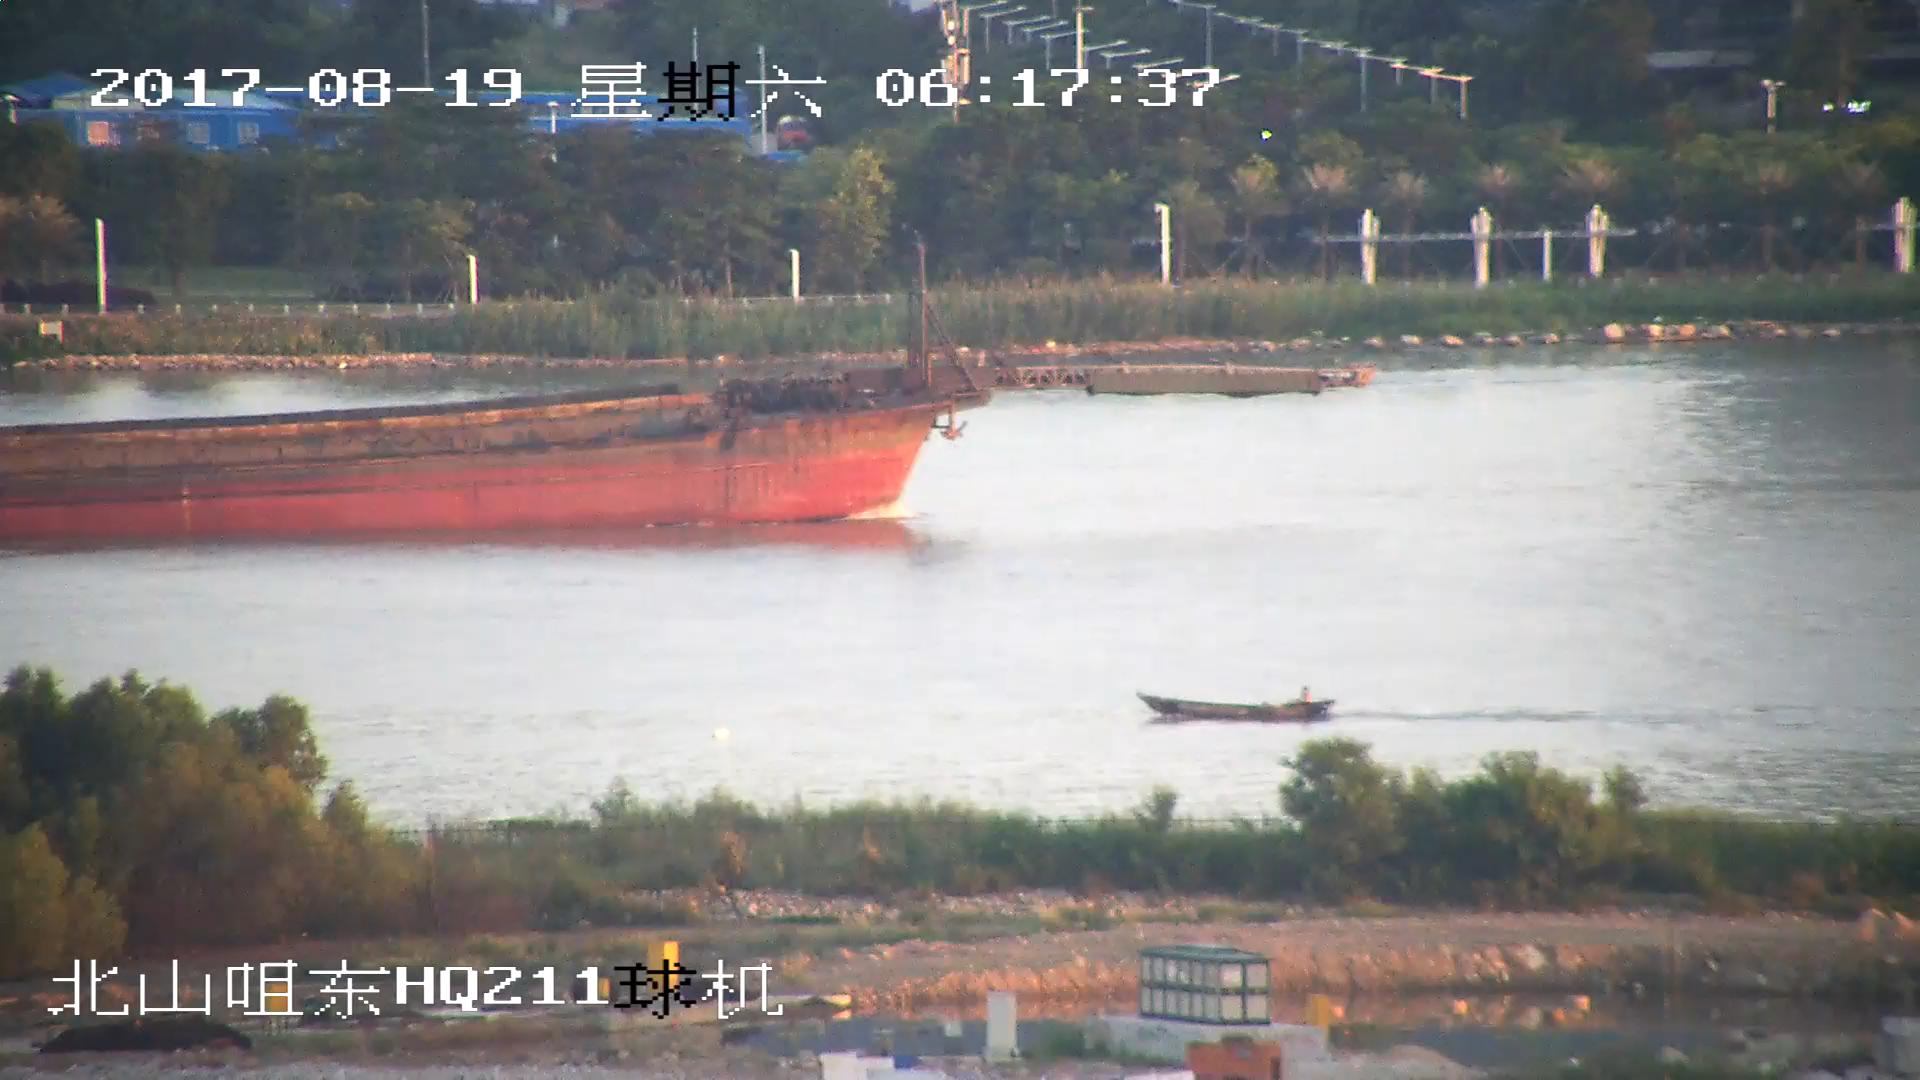bulk cargo carrier: (1, 247, 1378, 536)
fishing boat: (1140, 688, 1342, 724)
